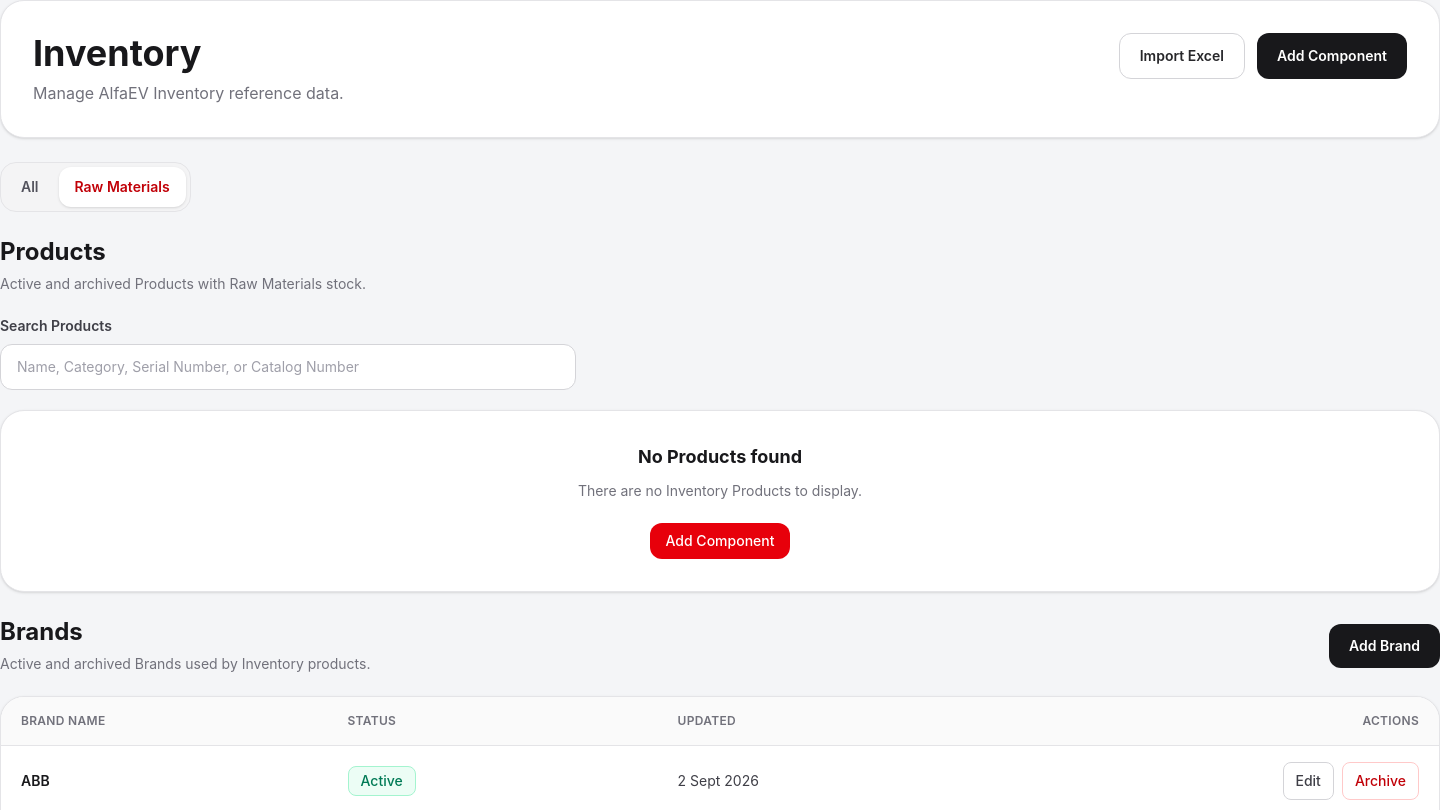
Test case: InventoryPage › requires archive confirmation and describes all locked consequences
The image size is (1440, 810).
Click the button "Archive" at (1380,781), box [1342,762,1419,800]
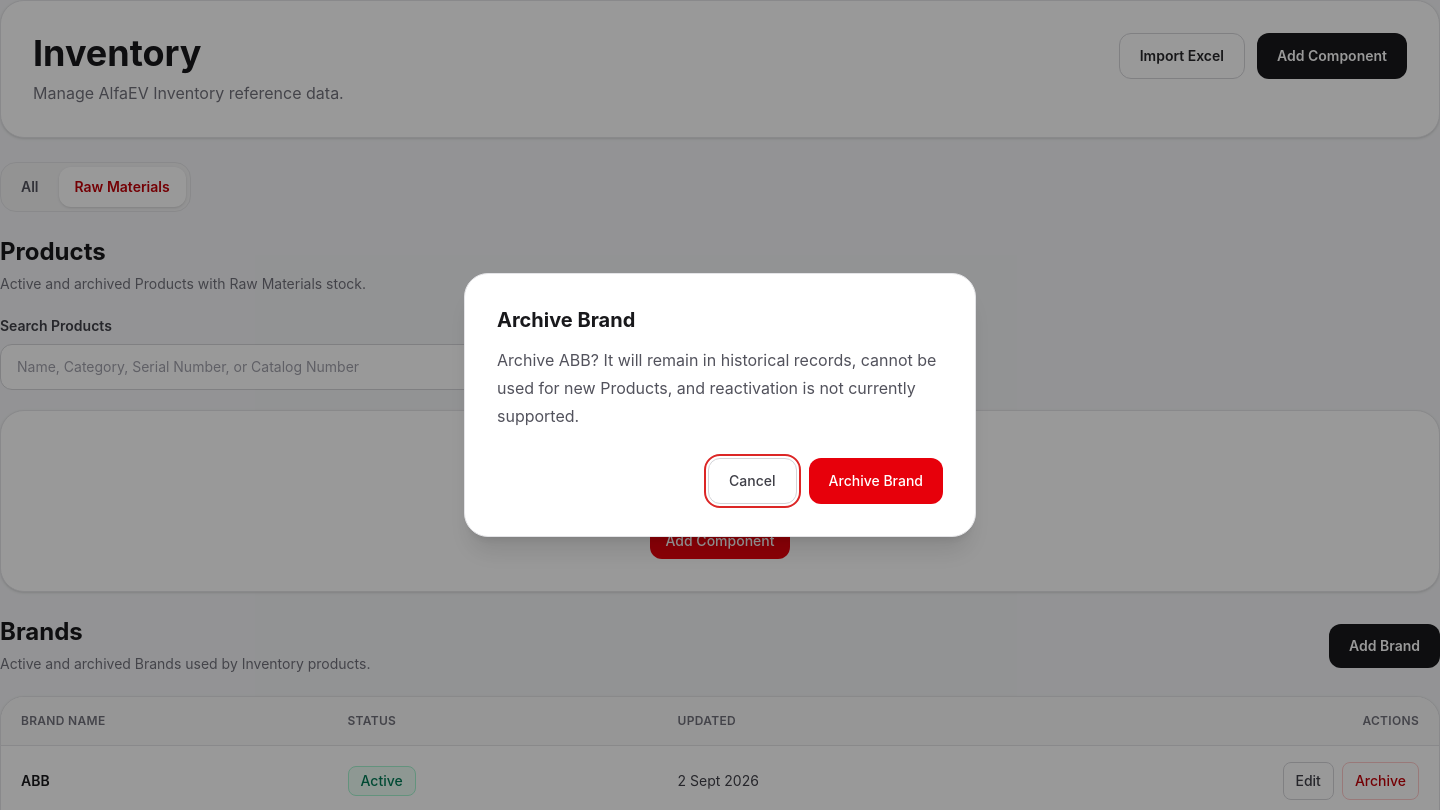
Expected: the dialog "Archive Brand" shows "remain in historical records", [497,350,936,426]
Expected: the dialog "Archive Brand" shows "cannot be used for new Products", [497,350,936,426]
Expected: the dialog "Archive Brand" shows "reactivation is not currently supported", [497,350,936,426]
Click the button "Archive Brand" at (876,481), box [809,458,943,504]
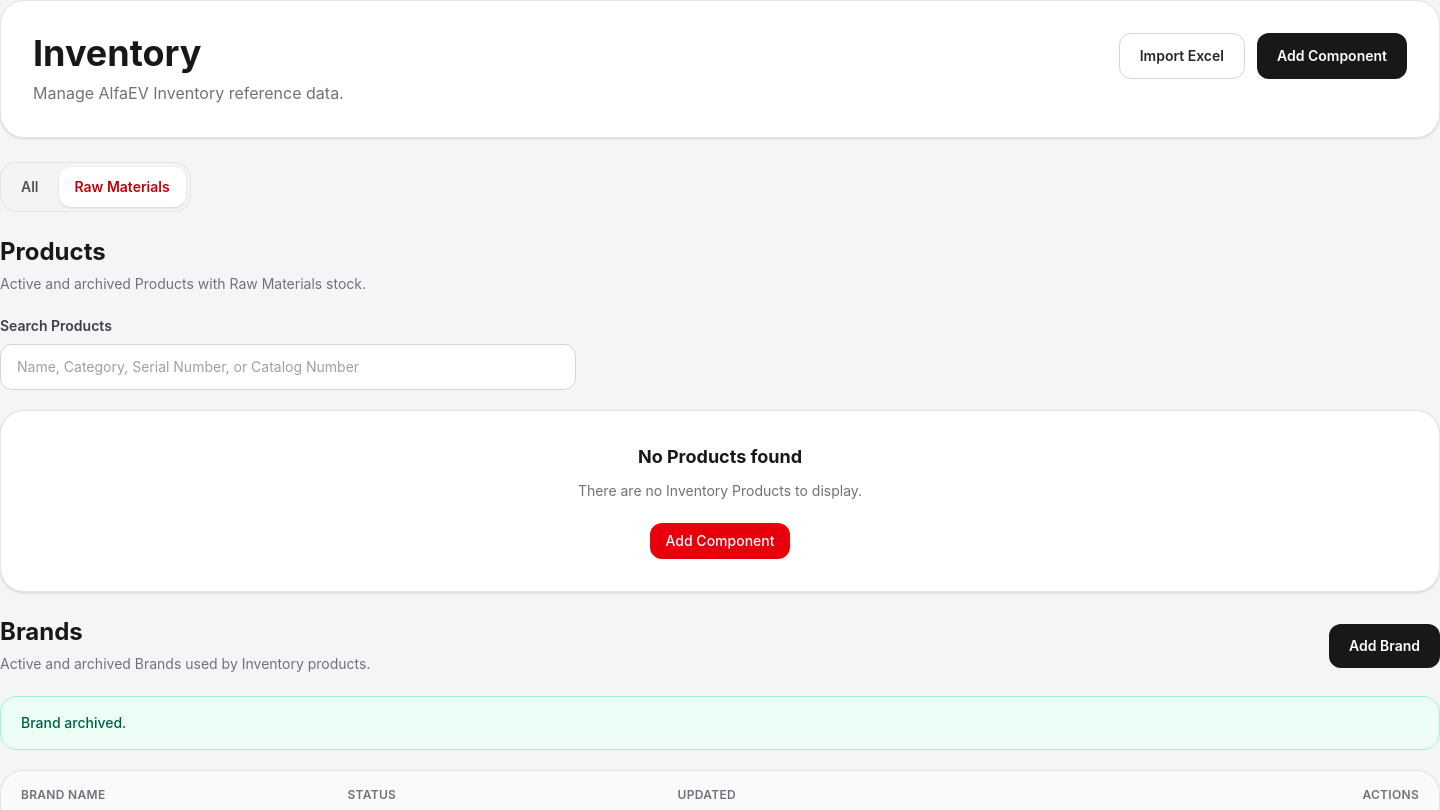
Expected: the text "Brand archived." is shown, [0,696,1439,750]
